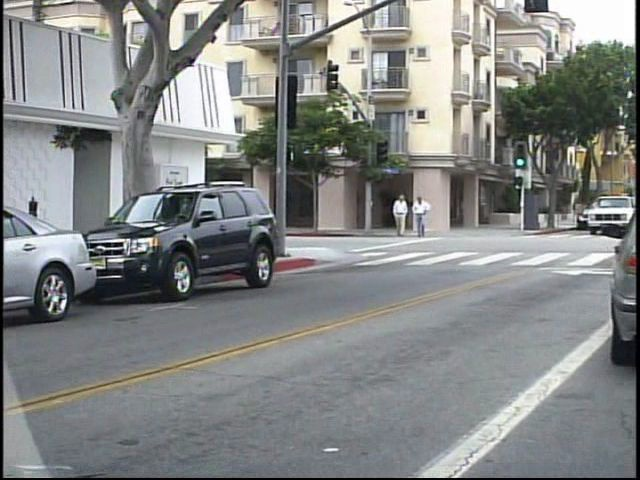person: (409, 192, 431, 242), (386, 191, 406, 243)
